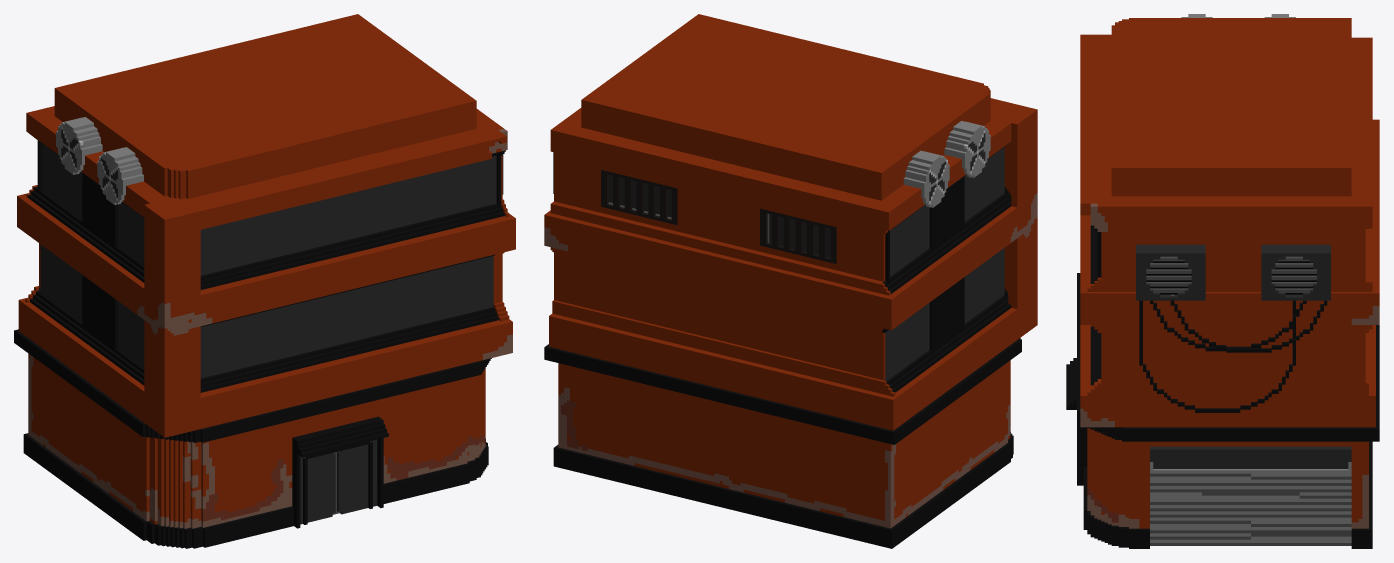
The model's file is Map2 (p1)-0.obj.
3 renders of one model, left to right at view 1: azimuth 30°, elevation 25°; view 2: azimuth 150°, elevation 25°; view 3: azimuth 270°, elevation 25°, orthographic. The views are drawn at different scales.
Bounding box in the file's own units: 12.4 × 11.8 × 9.
Materials: 1 (1 with a texture image).
